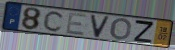8: (20, 7, 43, 31)
C: (42, 10, 66, 33)
E: (64, 12, 88, 37)
O: (109, 17, 133, 41)
V: (89, 14, 111, 39)
Z: (133, 19, 155, 45)
